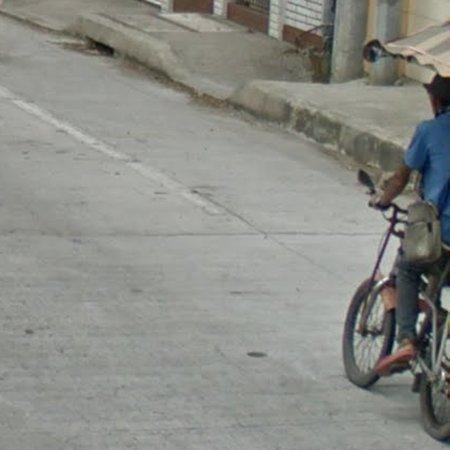bicycles: (345, 205, 407, 388), (411, 247, 450, 444)
